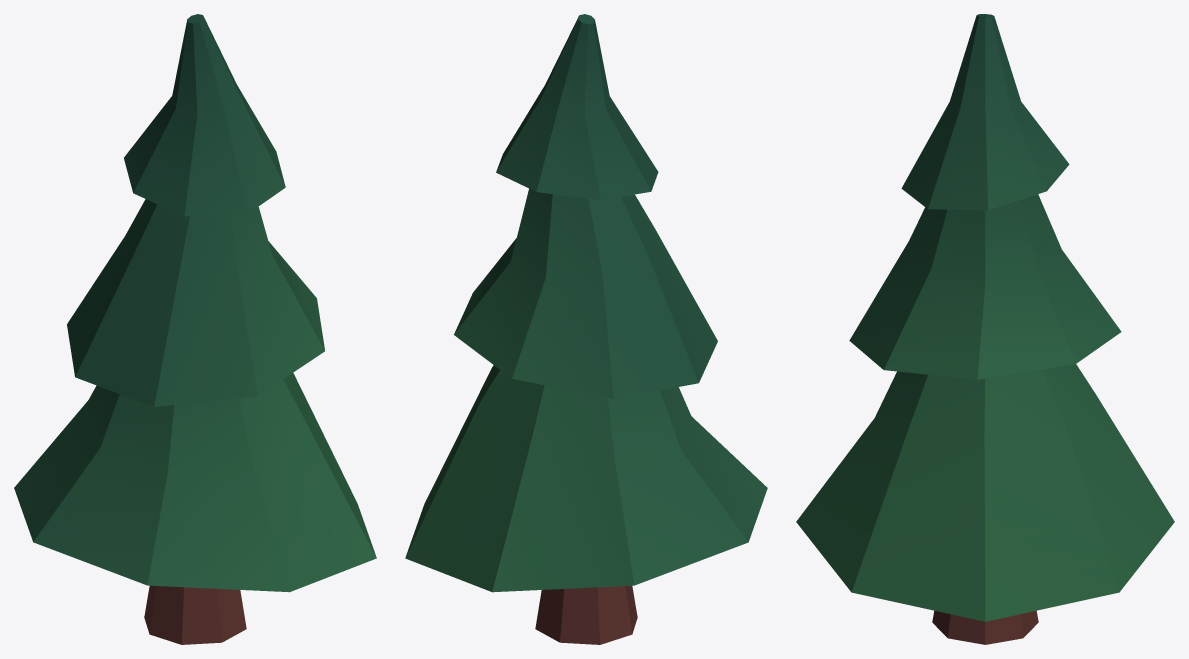
Rendered from F_PineTreeSolo_001.fbx.
The picture shows the model from 3 angles, left to right: view 1: azimuth 30°, elevation 25°; view 2: azimuth 150°, elevation 25°; view 3: azimuth 270°, elevation 25°; orthographic projection.
Parts seen in each view (by area): view 1: F_PineTree_002; view 2: F_PineTree_002; view 3: F_PineTree_002.
Part boxes in pixels (x1=…): F_PineTree_002: x1=14, y1=14, x2=376, y2=644; F_PineTree_002: x1=405, y1=14, x2=767, y2=644; F_PineTree_002: x1=796, y1=14, x2=1174, y2=644.
Bounding box in the file's own units: 363 × 648 × 366.
